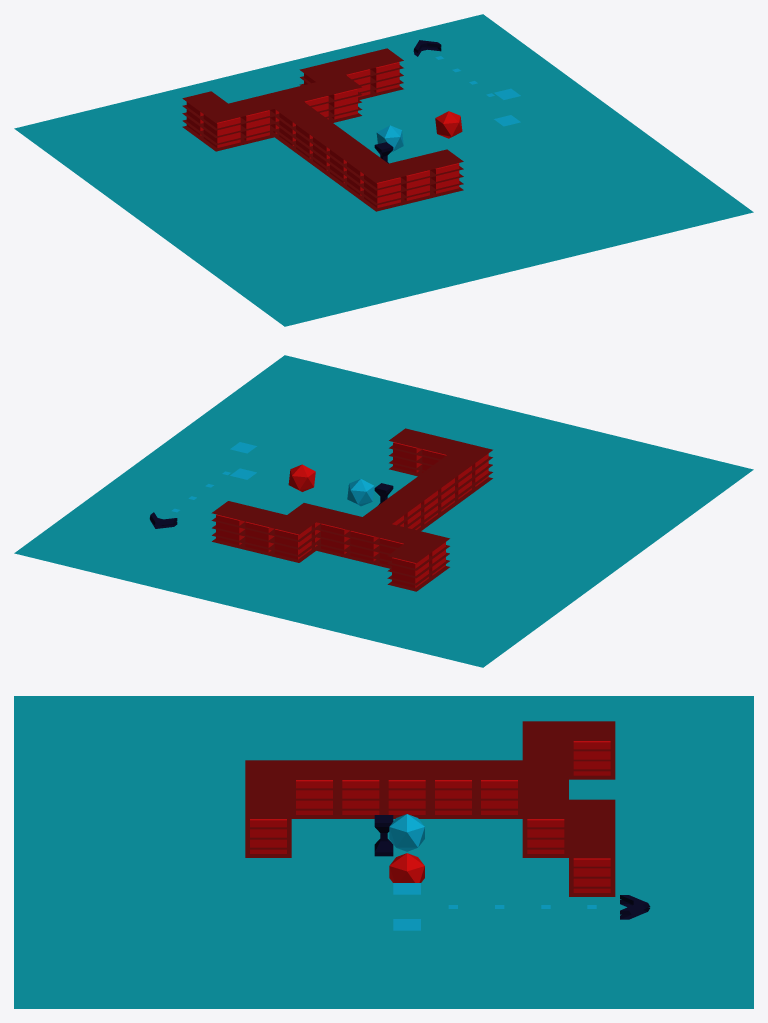
File: bomb.obj
3 renders of one model, top to bottom at view 1: azimuth 30°, elevation 25°; view 2: azimuth 150°, elevation 25°; view 3: azimuth 270°, elevation 25°, orthographic. The views are drawn at different scales.
Visible parts, largest first — view 1: ground_Grid.003, Cube.012, Grid.015_Grid.018, Cube, Cube.010, Cube.011, Grid.013_Grid.016, Cube.001, Cube.013, Cube.005, Cube.008, Cube.003 (+7 smaller); view 2: ground_Grid.003, Cube.016, Cube.013, Cube.015, Cube.009, Cube.007, Grid.013_Grid.016, Cube, Grid.002_Grid.005, Cube.003, Cube.012, Cube.005 (+8 smaller); view 3: ground_Grid.003, Cube.013, Cube.008, Cube.006, Cube.003, Cube, Cube.010, Grid.013_Grid.016, Cube.005, Grid.002_Grid.005, Icosphere.001, Cube.015 (+11 smaller).
Part boxes in pixels (x1,y1,x2,y2): ground_Grid.003: (14,14,753,326); Cube.012: (199,103,244,151); Grid.015_Grid.018: (359,163,404,211); Cube: (418,149,463,197); Cube.010: (316,75,362,122); Cube.011: (228,96,274,144); Grid.013_Grid.016: (358,48,403,96); Cube.001: (389,156,434,204); Cube.013: (182,91,227,138); Cube.005: (325,139,370,186); Cube.008: (292,114,337,161); Cube.003: (342,151,387,199); ground_Grid.003: (14,355,753,667); Cube.016: (270,515,315,562); Cube.013: (387,543,432,591); Cube.015: (241,508,286,555); Cube.009: (316,510,361,557); Cube.007: (346,517,391,564); Grid.013_Grid.016: (211,501,256,548); Cube: (389,428,434,476); Grid.002_Grid.005: (397,480,442,527); Cube.003: (430,455,475,502); Cube.012: (404,531,449,579); Cube.005: (413,467,459,515); ground_Grid.003: (14,696,753,1008); Cube.013: (569,721,615,779); Cube.008: (430,760,476,818); Cube.006: (476,760,522,818); Cube.003: (291,760,337,818); Cube: (245,799,291,857); Cube.010: (522,799,568,857); Grid.013_Grid.016: (569,838,615,896); Cube.005: (337,760,383,818); Grid.002_Grid.005: (384,760,430,818); Icosphere.001: (389,814,424,851); Cube.015: (569,819,615,838).
Bounding box in the file's own units: 16 × 1.26 × 16.
